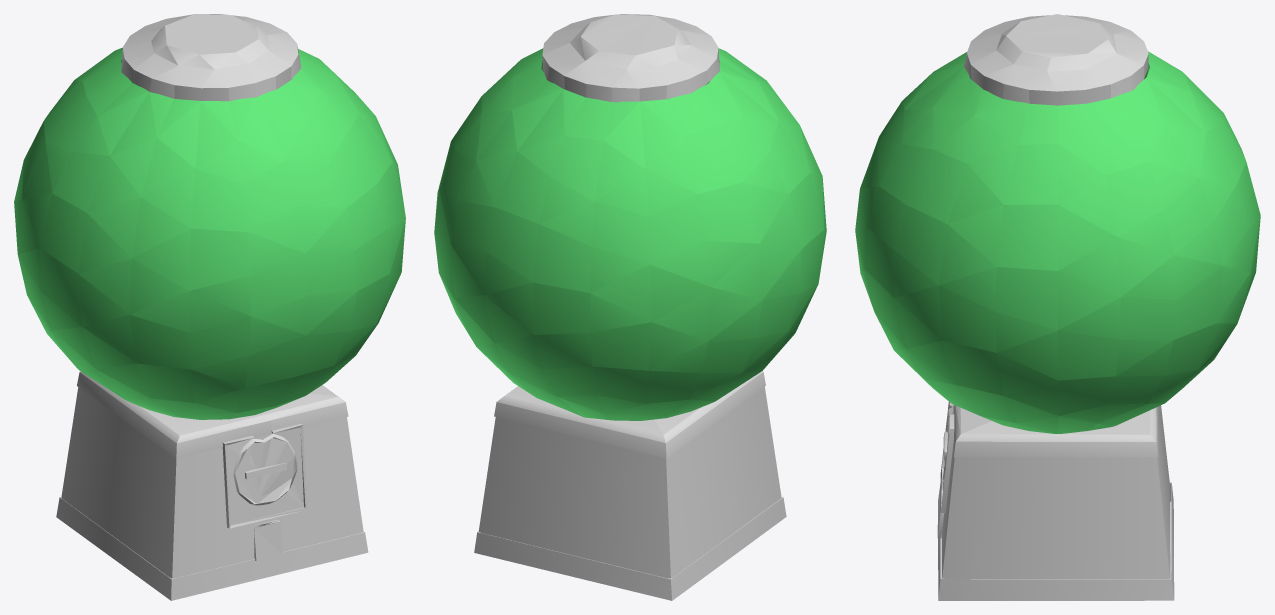
File: GumMachine.fbx
3 renders of one model, left to right at view 1: azimuth 30°, elevation 25°; view 2: azimuth 150°, elevation 25°; view 3: azimuth 270°, elevation 25°, orthographic. The views are drawn at different scales.
Parts seen in each view (by area): view 1: candy_machine_SCENE; view 2: candy_machine_SCENE; view 3: candy_machine_SCENE.
Boxes of the visible parts, x1=… form: candy_machine_SCENE: x1=14, y1=14, x2=405, y2=600; candy_machine_SCENE: x1=434, y1=14, x2=826, y2=600; candy_machine_SCENE: x1=855, y1=14, x2=1260, y2=600.
Bounding box in the file's own units: 1373 × 1926 × 1375.
